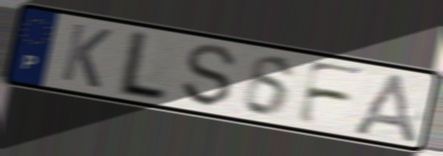6: (240, 54, 299, 119)
A: (347, 71, 422, 147)
F: (293, 58, 370, 128)
K: (57, 20, 115, 92)
L: (111, 29, 172, 105)
S: (180, 42, 240, 110)
